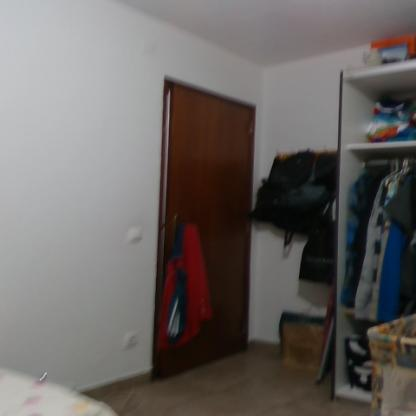closed: (153, 74, 266, 371)
